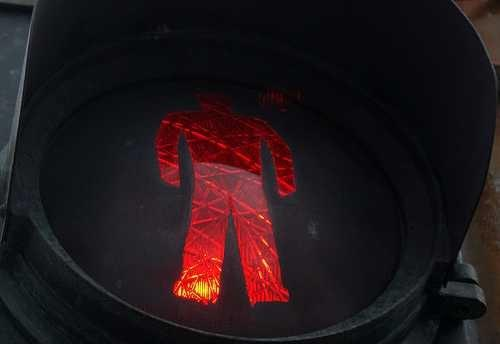red: (94, 53, 370, 326)
